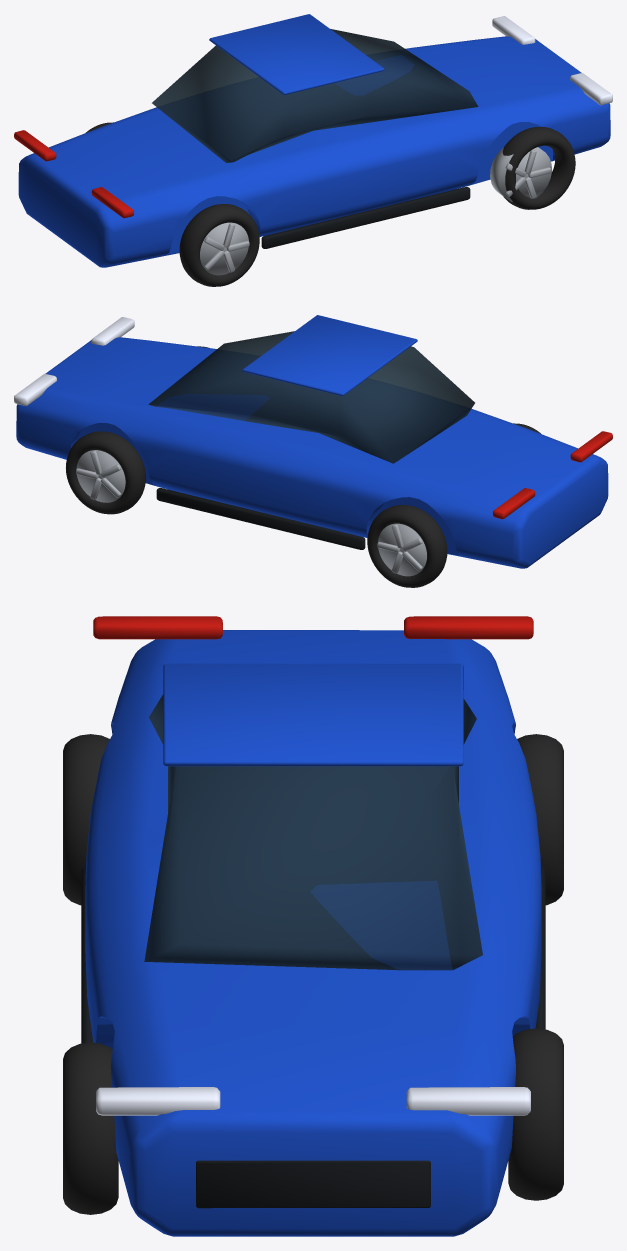
Rendered from vehicle-lod1.glb.
The picture shows the model from 3 angles, top to bottom: view 1: azimuth 30°, elevation 25°; view 2: azimuth 150°, elevation 25°; view 3: azimuth 270°, elevation 25°; orthographic projection. The views are drawn at different scales.
Parts seen in each view (by area): view 1: chassis_LOD1, cabin_glass_LOD1, roof_LOD1, wheel_rear_left_LOD1, wheel_front_left_LOD1, side_sill_-1_LOD1, wheel_front_left_rim_LOD1, wheel_rear_left_rim_LOD1, front_lamp_-1_LOD1, front_lamp_1_LOD1, rear_lamp_-1_LOD1, rear_lamp_1_LOD1; view 2: chassis_LOD1, cabin_glass_LOD1, roof_LOD1, wheel_front_right_LOD1, wheel_rear_right_LOD1, side_sill_1_LOD1, wheel_rear_right_rim_LOD1, wheel_front_right_rim_LOD1, front_lamp_1_LOD1, front_lamp_-1_LOD1, rear_lamp_-1_LOD1, rear_lamp_1_LOD1; view 3: chassis_LOD1, cabin_glass_LOD1, roof_LOD1, front_grille_LOD1, wheel_front_left_LOD1, wheel_front_right_LOD1, wheel_rear_left_LOD1, wheel_rear_right_LOD1, front_lamp_1_LOD1, front_lamp_-1_LOD1, rear_lamp_-1_LOD1, rear_lamp_1_LOD1 (+2 smaller).
Boxes of the visible parts, <box> form: chassis_LOD1: <box>18,36,610,267</box>; cabin_glass_LOD1: <box>152,29,478,162</box>; roof_LOD1: <box>209,14,384,94</box>; wheel_rear_left_LOD1: <box>179,204,259,286</box>; wheel_front_left_LOD1: <box>502,127,575,209</box>; side_sill_-1_LOD1: <box>261,187,470,248</box>; wheel_front_left_rim_LOD1: <box>490,147,551,201</box>; wheel_rear_left_rim_LOD1: <box>200,222,248,275</box>; front_lamp_-1_LOD1: <box>570,73,612,105</box>; front_lamp_1_LOD1: <box>492,16,535,44</box>; rear_lamp_-1_LOD1: <box>91,187,133,218</box>; rear_lamp_1_LOD1: <box>14,130,56,161</box>; chassis_LOD1: <box>16,337,608,568</box>; cabin_glass_LOD1: <box>148,331,474,463</box>; roof_LOD1: <box>242,315,417,395</box>; wheel_front_right_LOD1: <box>66,431,145,514</box>; wheel_rear_right_LOD1: <box>367,505,447,587</box>; side_sill_1_LOD1: <box>156,488,365,549</box>; wheel_rear_right_rim_LOD1: <box>378,523,426,576</box>; wheel_front_right_rim_LOD1: <box>76,450,125,502</box>; front_lamp_1_LOD1: <box>14,374,56,405</box>; front_lamp_-1_LOD1: <box>91,317,134,345</box>; rear_lamp_-1_LOD1: <box>570,431,612,462</box>; rear_lamp_1_LOD1: <box>493,488,535,519</box>; chassis_LOD1: <box>85,630,541,1236</box>; cabin_glass_LOD1: <box>144,694,482,970</box>; roof_LOD1: <box>163,663,463,766</box>; front_grille_LOD1: <box>196,1160,430,1208</box>; wheel_front_left_LOD1: <box>63,1042,118,1214</box>; wheel_front_right_LOD1: <box>508,1028,563,1200</box>; wheel_rear_left_LOD1: <box>63,734,109,905</box>; wheel_rear_right_LOD1: <box>517,734,563,905</box>; front_lamp_1_LOD1: <box>406,1087,530,1115</box>; front_lamp_-1_LOD1: <box>96,1087,220,1115</box>; rear_lamp_-1_LOD1: <box>93,616,222,639</box>; rear_lamp_1_LOD1: <box>404,616,533,639</box>.
Bounding box in the file's own units: 4.21 × 1.25 × 1.8.
